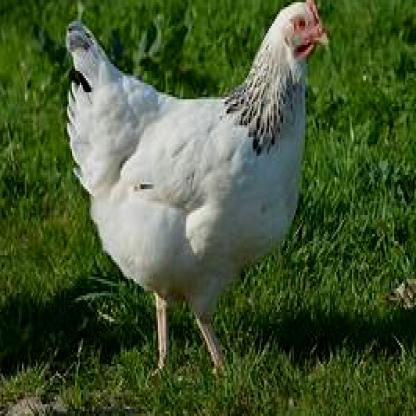chicken: (62, 0, 332, 393)
